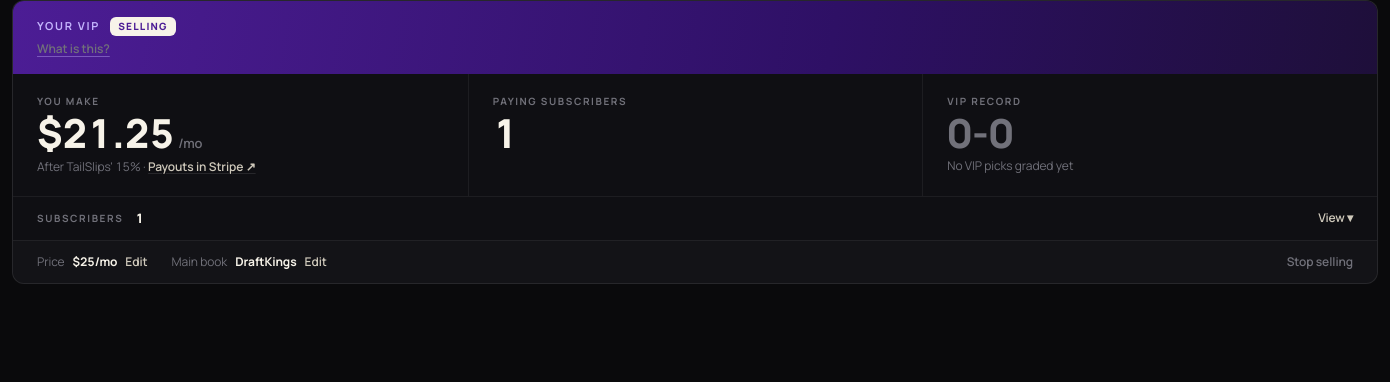
Test: SellerStrip › explains the pause when the subscriber list opens
This screenshot has width=1390, height=382.
Expected: the text "View ▾" is shown, [1318,209,1353,227]
Click the button "Subscribers 1 View ▾".
click(80, 218)  # box [13,196,1377,240]
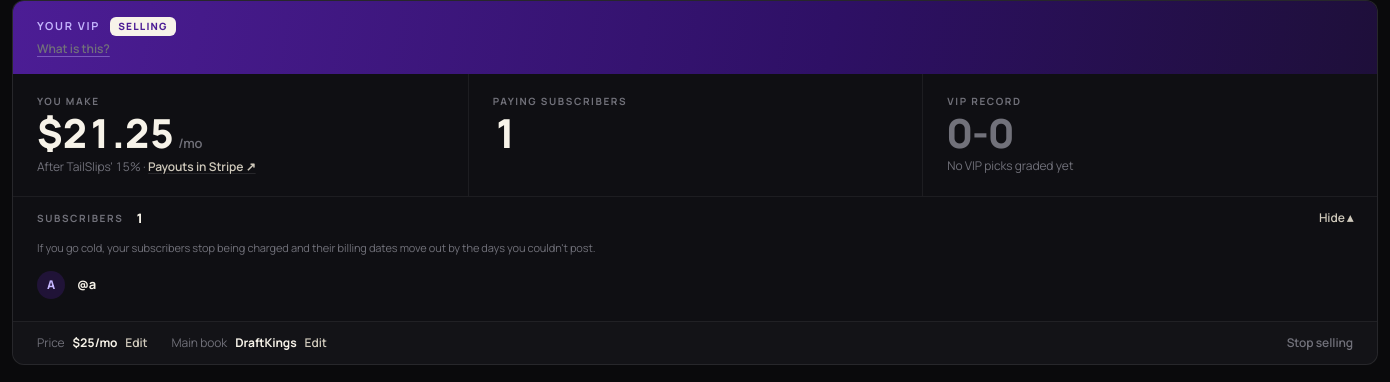
Now the text "If you go cold, your subscribers stop being charged and their billing dates move out by the days you couldn't post." is shown, box [37,240,596,255]
